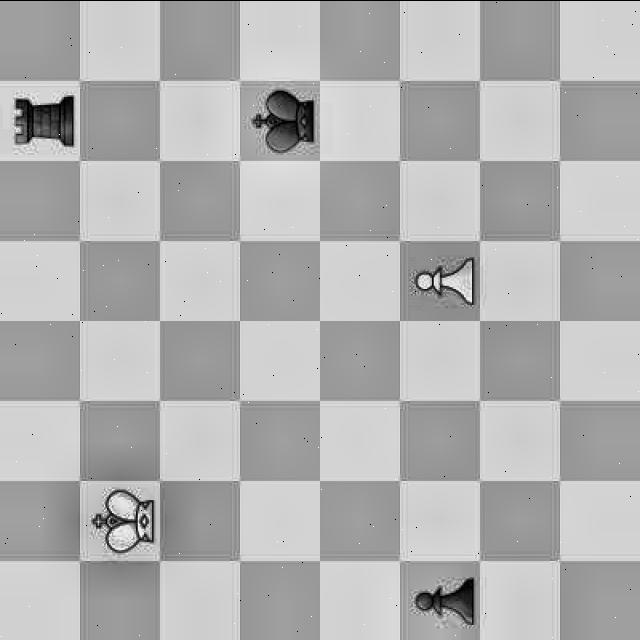black king: (242, 84, 320, 160)
black pawn: (402, 565, 476, 634)
black rook: (1, 84, 76, 160)
white king: (78, 484, 154, 556)
white pawn: (404, 244, 482, 312)
